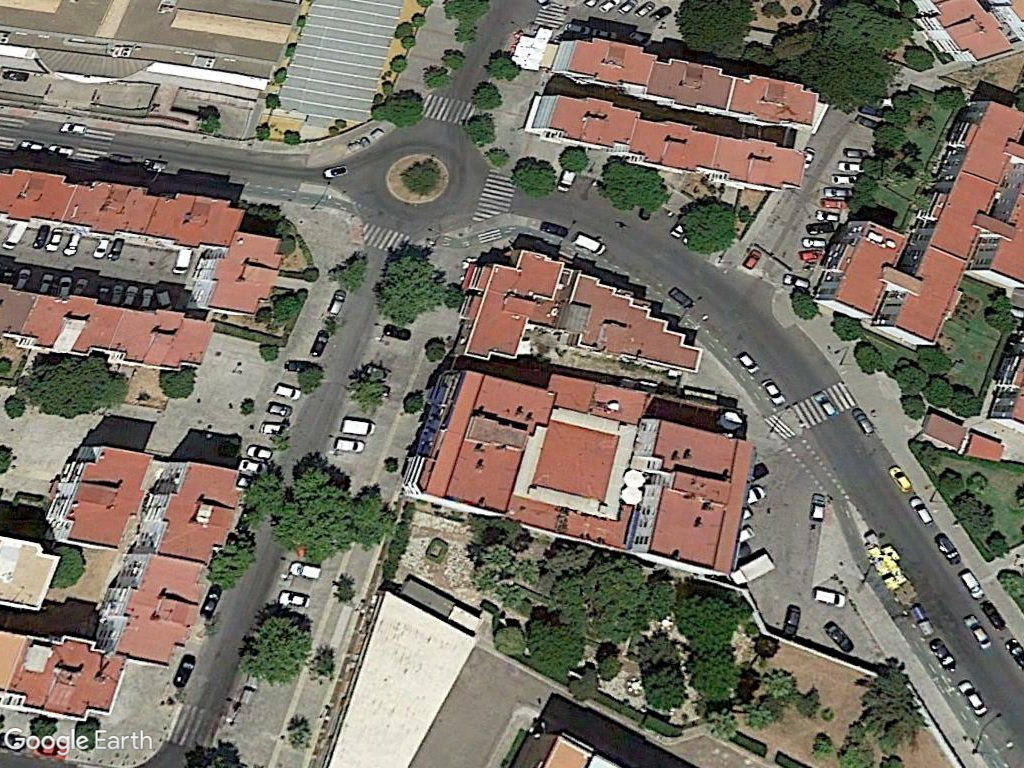car: (333, 434, 370, 457)
van: (805, 584, 852, 609), (338, 413, 381, 438), (571, 229, 609, 257)
